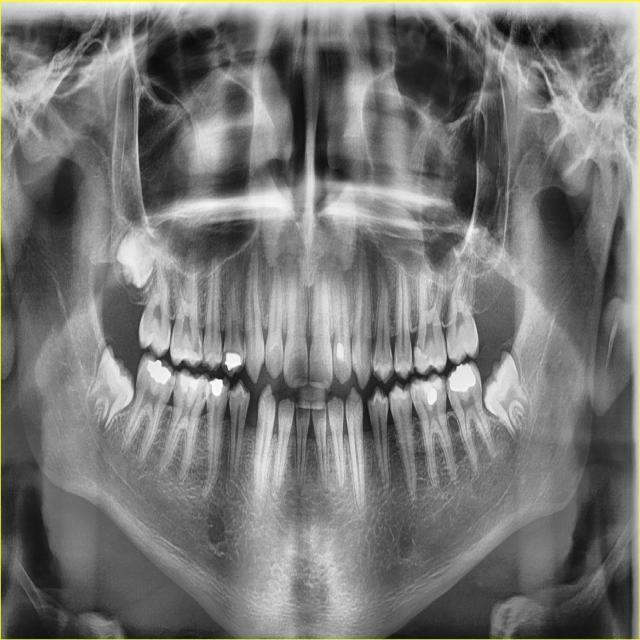NucleOSS Implant: (444, 361, 478, 396), (141, 355, 175, 386), (221, 349, 243, 372), (210, 377, 226, 398), (426, 387, 437, 405)
Sterngold Implant: (193, 328, 204, 360), (199, 387, 209, 402), (220, 346, 227, 365), (388, 353, 395, 367), (173, 382, 179, 394), (169, 380, 175, 391), (372, 355, 377, 367), (443, 382, 447, 396), (228, 393, 233, 402), (446, 384, 449, 398), (225, 392, 228, 400)
Straumann Implant: (405, 345, 436, 374), (176, 373, 204, 398), (337, 342, 345, 364)
